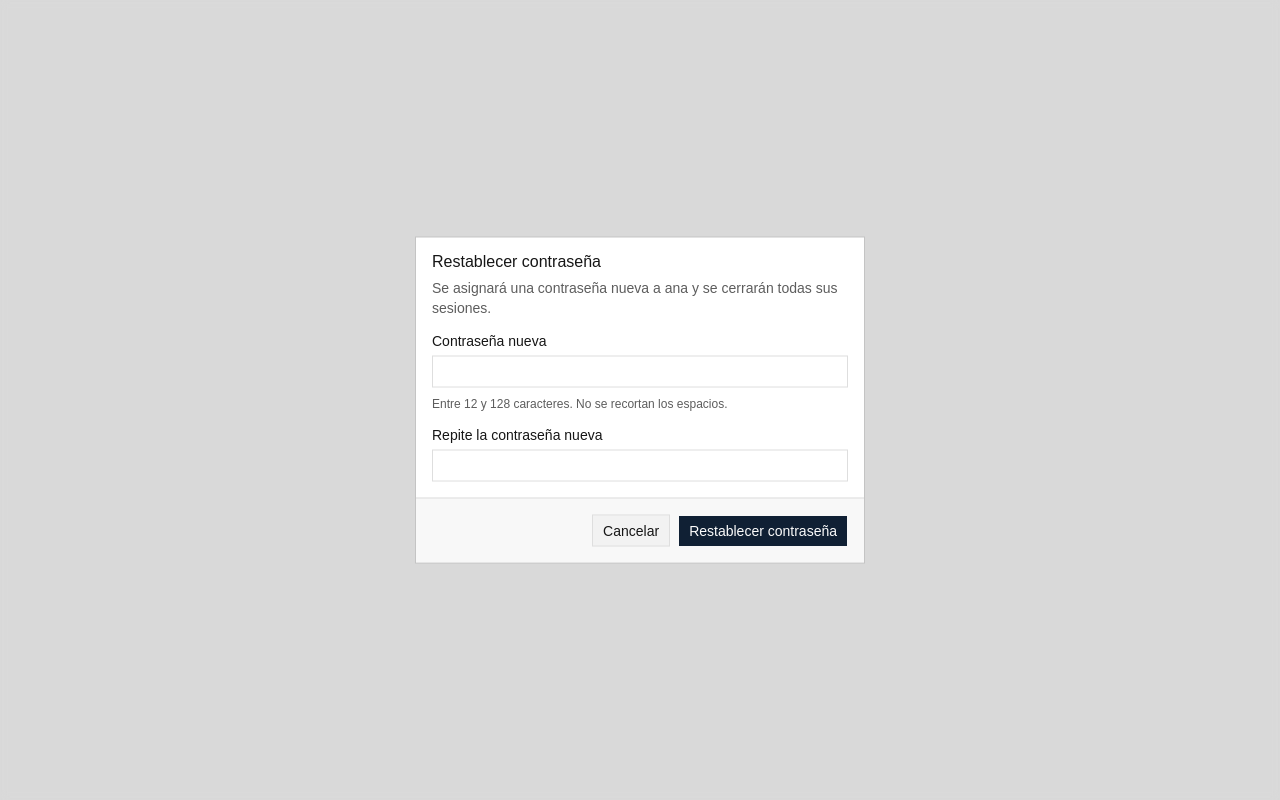
Test: ResetPasswordDialog › exige que la confirmación coincida
Type "contrasena-larga-1" into the password field labelled "Contraseña nueva" at {"x": 640, "y": 372}, box [432,356,848,388]
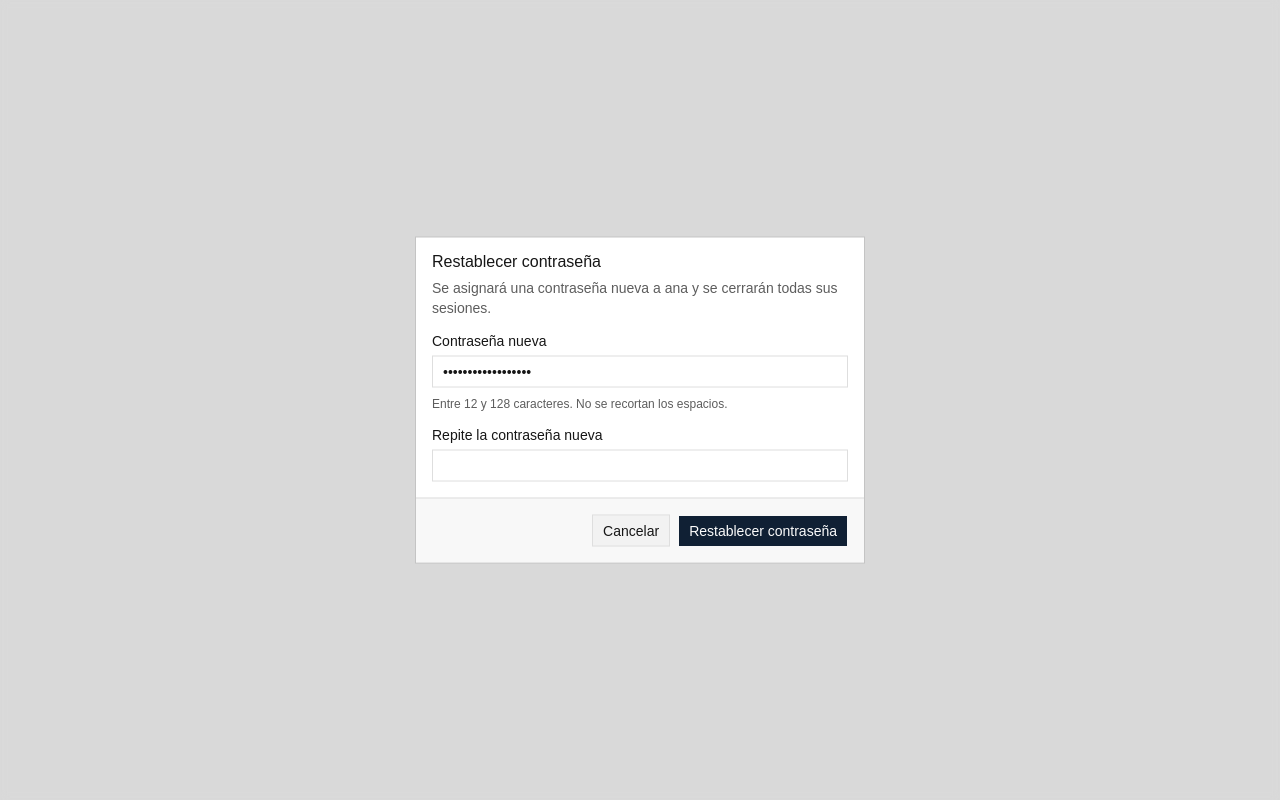
Type "contrasena-larga-2" into the password field labelled "Repite la contraseña nueva" at {"x": 640, "y": 466}, box [432,450,848,482]
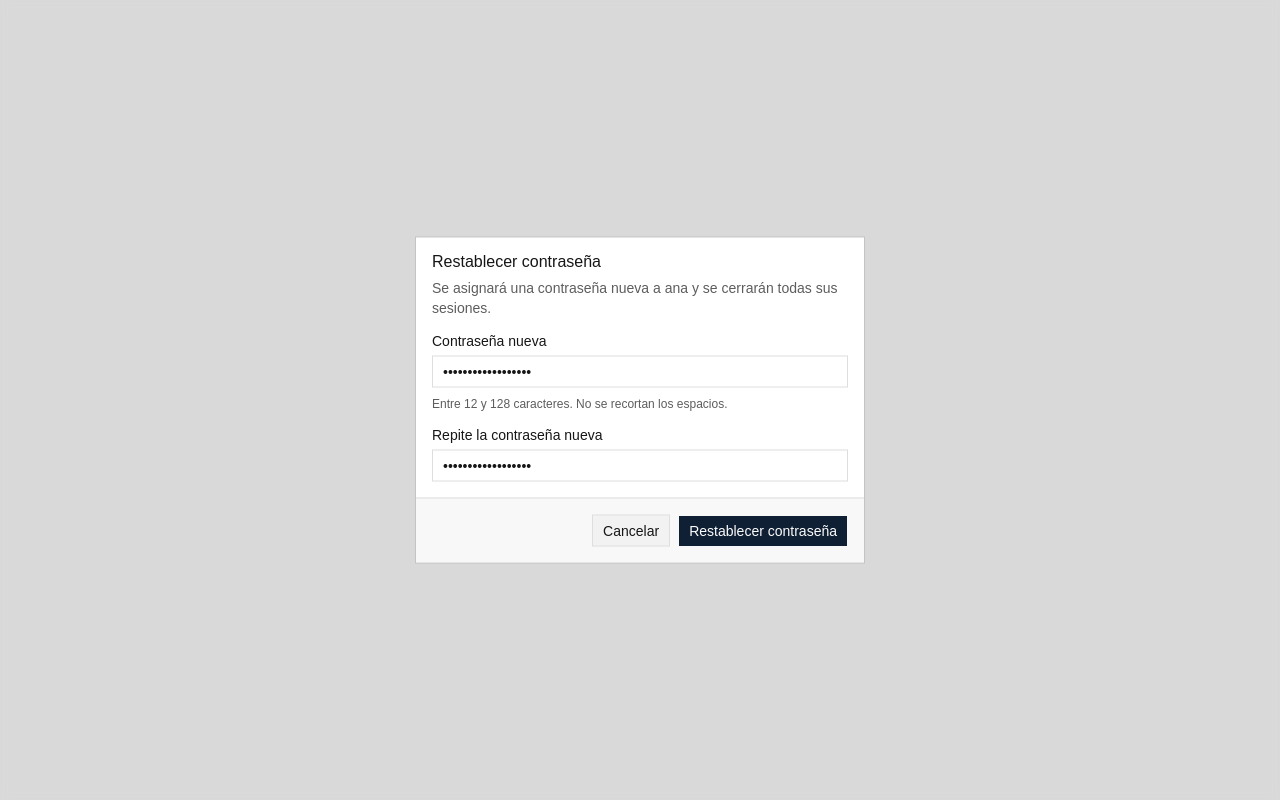
Click the button "Restablecer contraseña" at {"x": 763, "y": 530}, box [678,514,848,546]
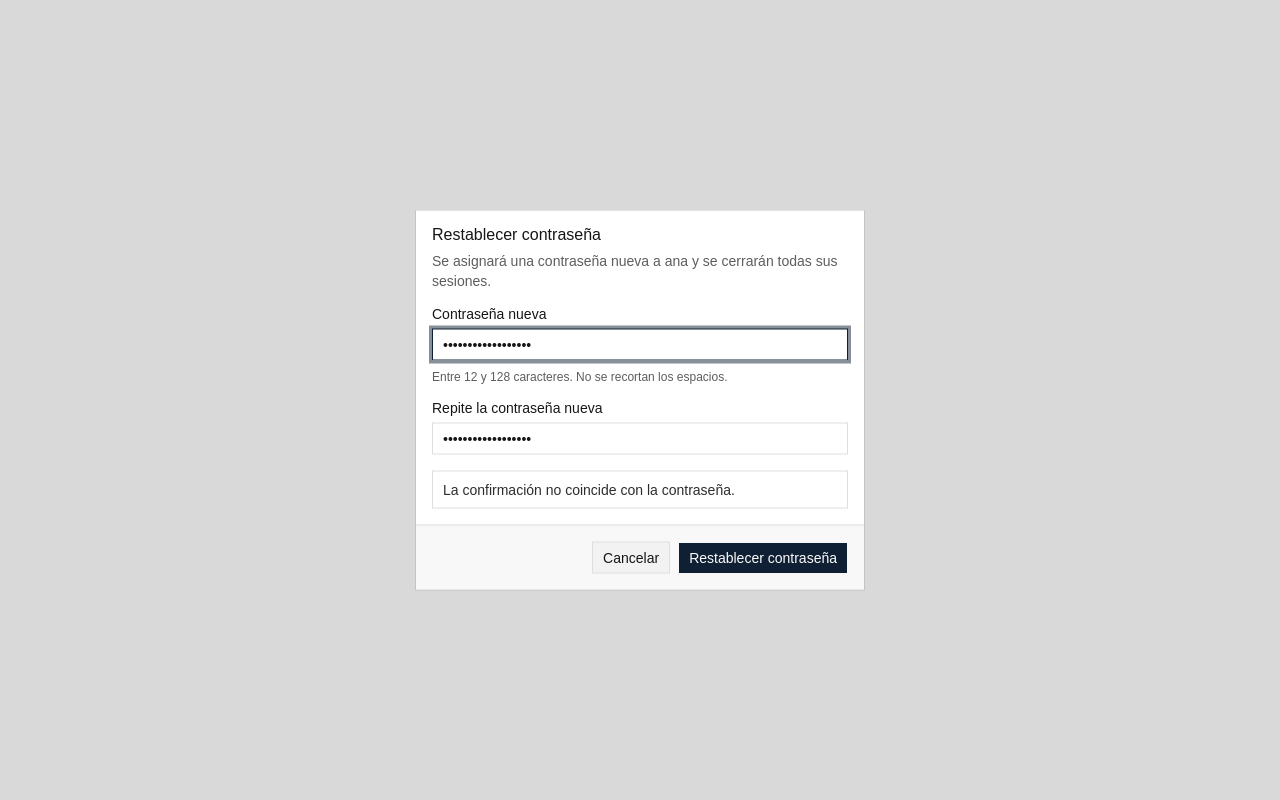
Now the text "La confirmación no coincide con la contraseña." is shown, box [443,482,735,498]
